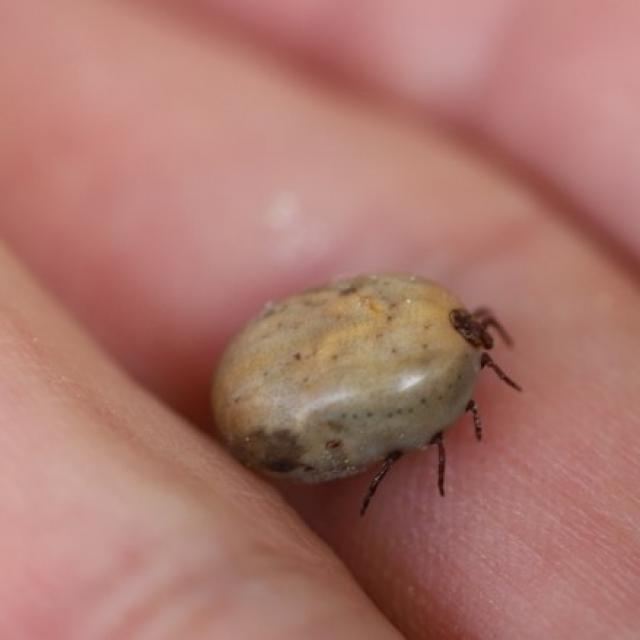Dermacentor Reticulatus-F-Fed: (208, 273, 526, 517)
